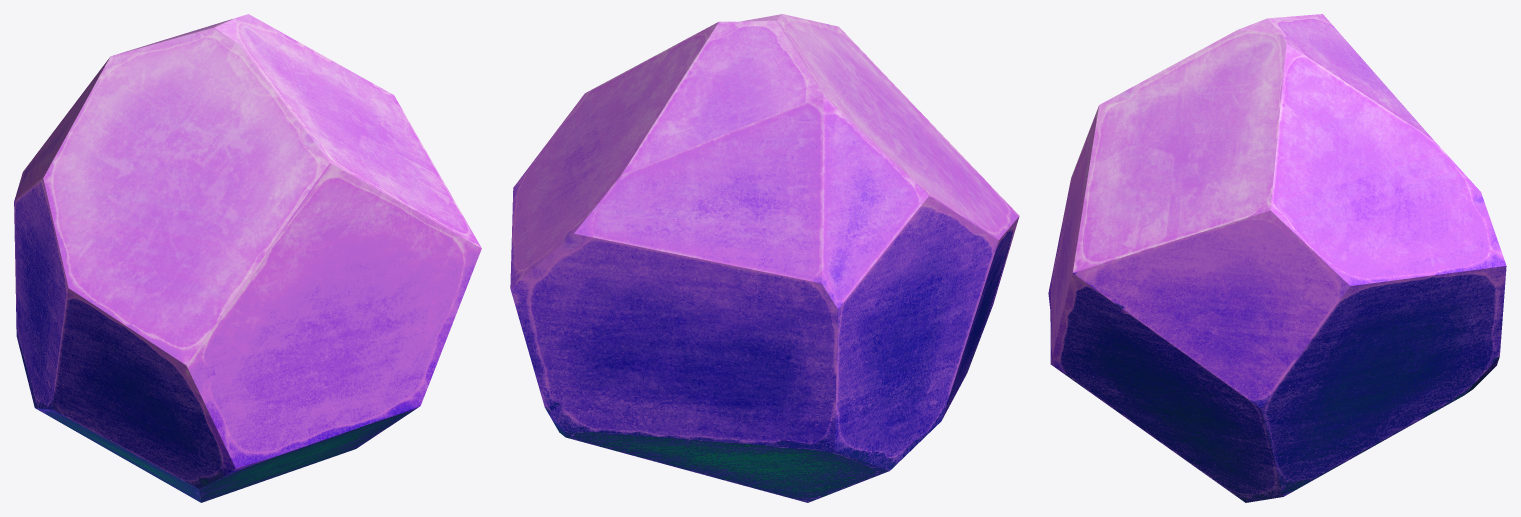
The model's file is rock.gltf.
The picture shows the model from 3 angles, left to right: view 1: azimuth 30°, elevation 25°; view 2: azimuth 150°, elevation 25°; view 3: azimuth 270°, elevation 25°; orthographic projection. The views are drawn at different scales.
Parts seen in each view (by area): view 1: Object_24.001; view 2: Object_24.001; view 3: Object_24.001.
Part boxes in pixels (<box>): Object_24.001: <box>14,14,481,502</box>; Object_24.001: <box>510,14,1019,502</box>; Object_24.001: <box>1048,14,1506,502</box>.
Size of the model in its own units: 1.12 by 1.27 by 1.19.
1 material, 1 textured.
